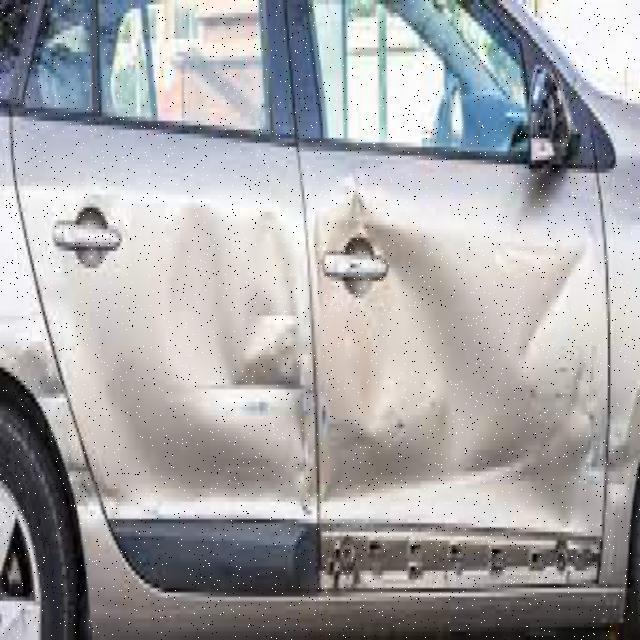doorouter-dent: (317, 143, 606, 536), (43, 138, 317, 532)
